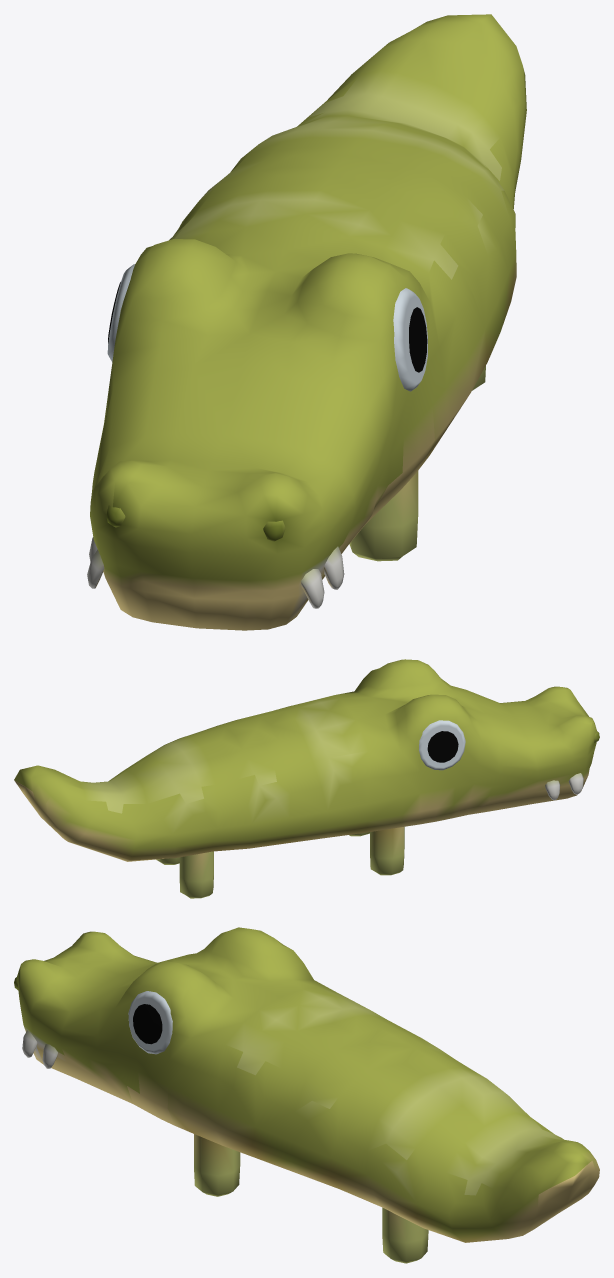
File: Alligator.glb
3 renders of one model, top to bottom at view 1: azimuth 30°, elevation 25°; view 2: azimuth 150°, elevation 25°; view 3: azimuth 270°, elevation 25°, orthographic. The views are drawn at different scales.
Parts seen in each view (by area): view 1: 0; view 2: 0; view 3: 0.
Part boxes in pixels (left/top/right/bottom): 0: left=87, top=14, right=526, bottom=630; 0: left=14, top=659, right=599, bottom=898; 0: left=14, top=927, right=599, bottom=1263.
Size of the model in its own units: 1.13 by 0.4574 by 1.18.
